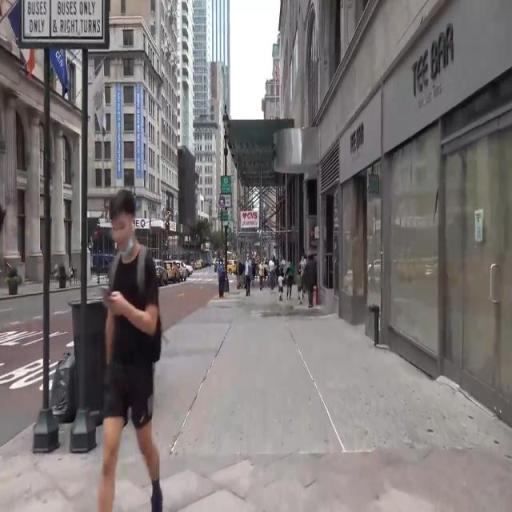person: (102, 181, 171, 512), (306, 254, 319, 311), (218, 257, 228, 299), (287, 256, 295, 304), (246, 254, 253, 299), (269, 255, 276, 296), (302, 251, 308, 296), (279, 273, 286, 304), (260, 259, 266, 295), (297, 273, 303, 307)
